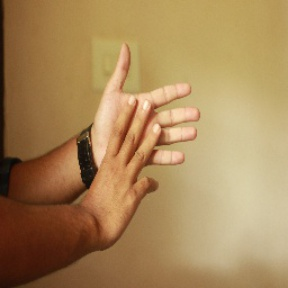M: (83, 40, 204, 209)
